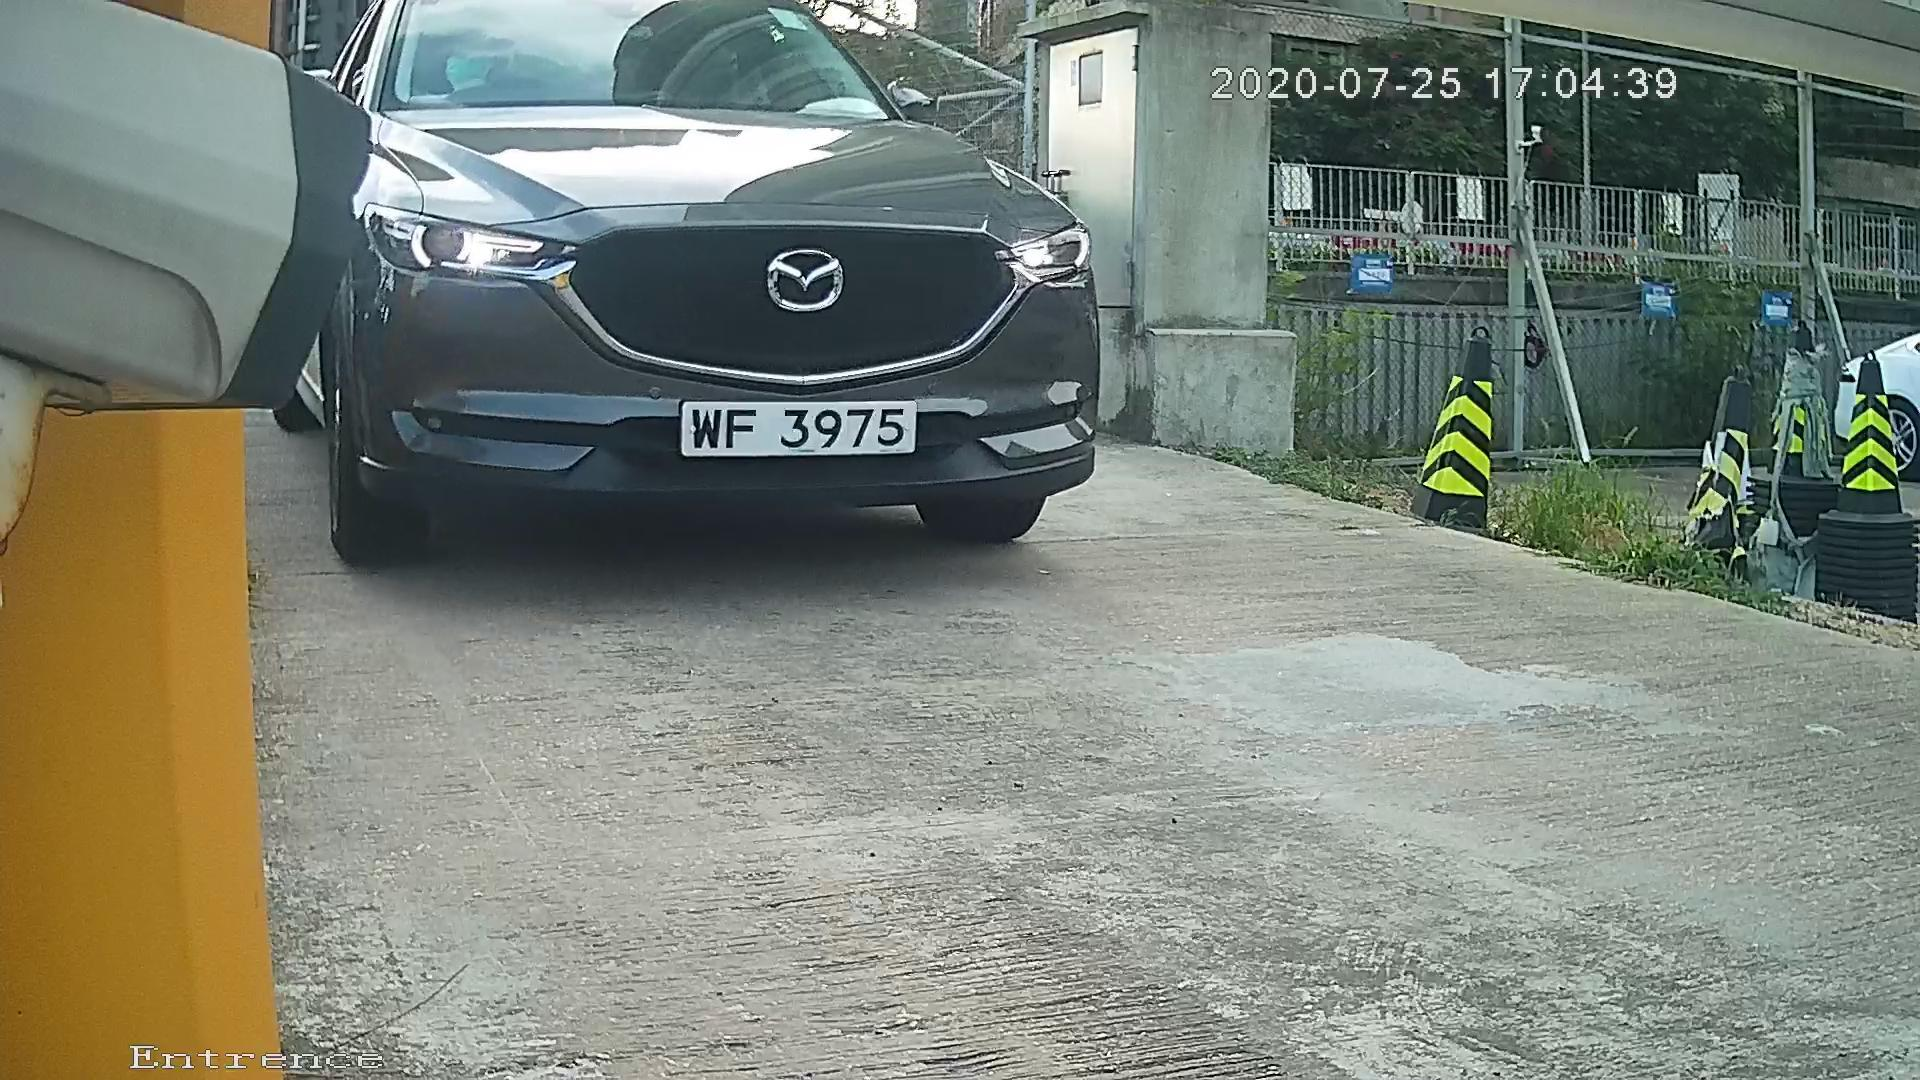privatecar: (215, 25, 1251, 603)
